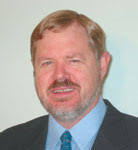person: (30, 9, 111, 120)
